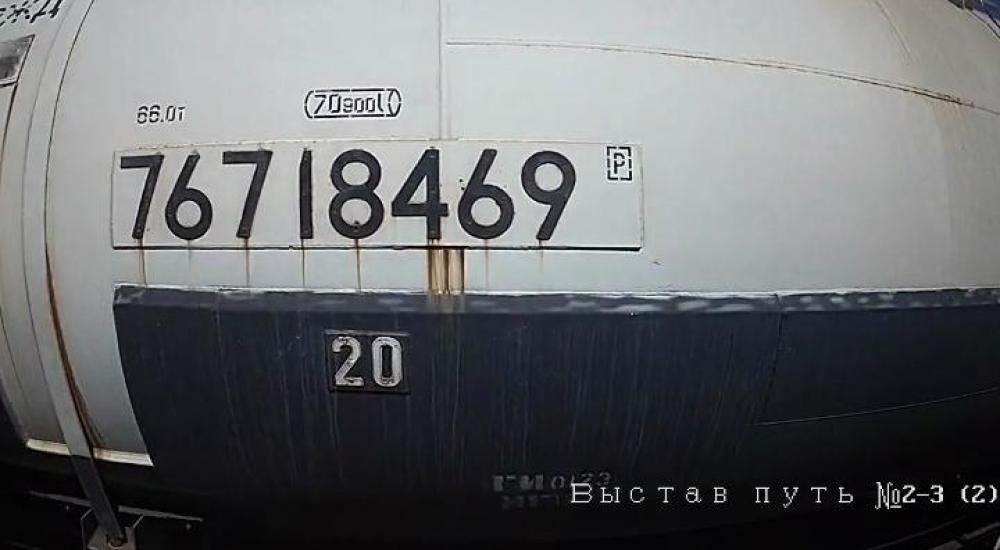Wagon-number: (117, 143, 578, 248)
